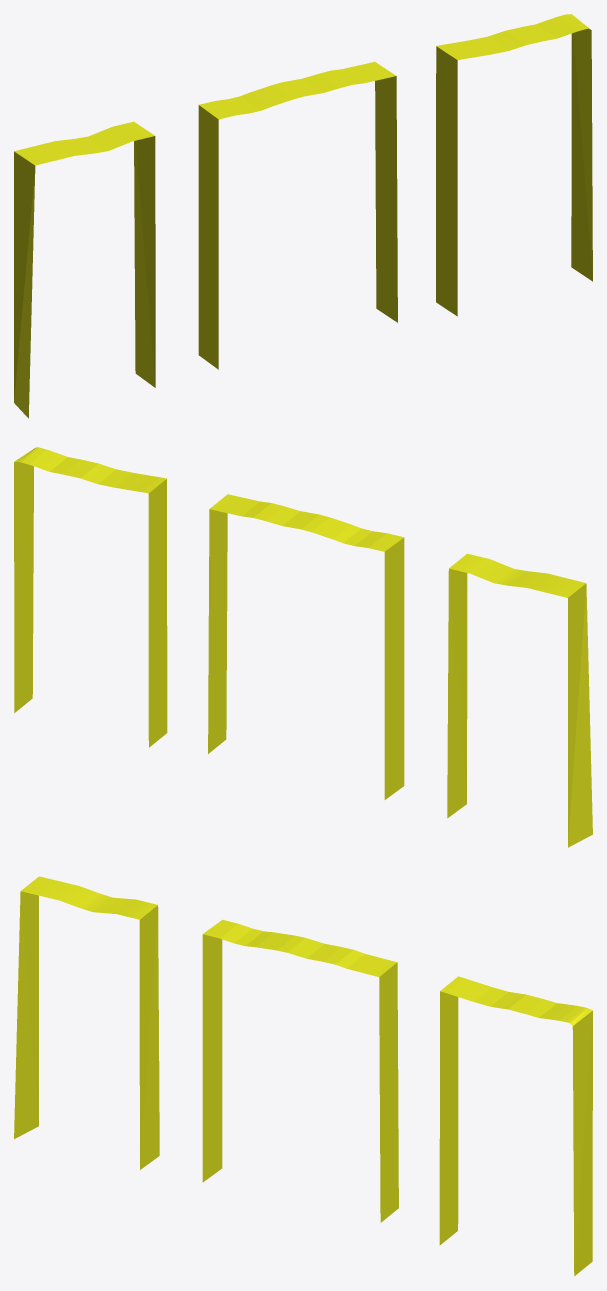
Rendered from FoM_collision.FBX.
3 views of the same model, one above another, from view 1: azimuth 30°, elevation 25°; view 2: azimuth 150°, elevation 25°; view 3: azimuth 330°, elevation 25° (orthographic).
Parts seen in each view (by area): view 1: collision; view 2: collision; view 3: collision.
Boxes of the visible parts, x1,y1,x2,y2 form: collision: [14, 14, 592, 418]; collision: [14, 447, 592, 847]; collision: [14, 876, 592, 1275].
Size of the model in its own units: 1021 by 62.96 by 445.
